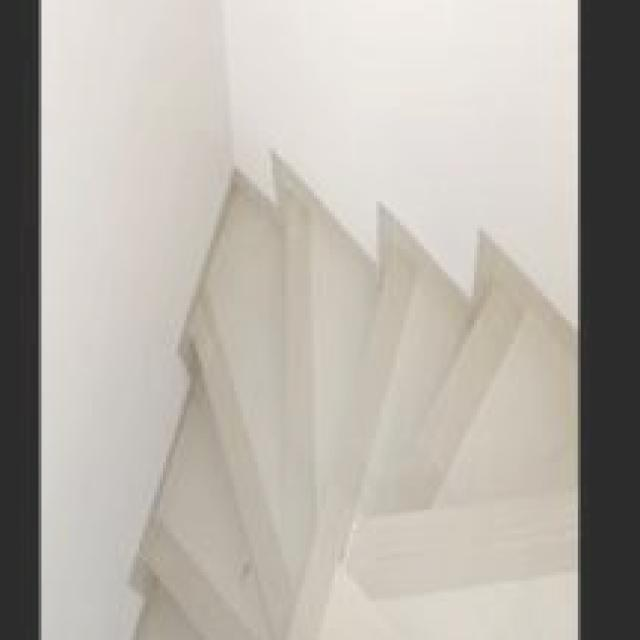downstair: (297, 235, 582, 640)
